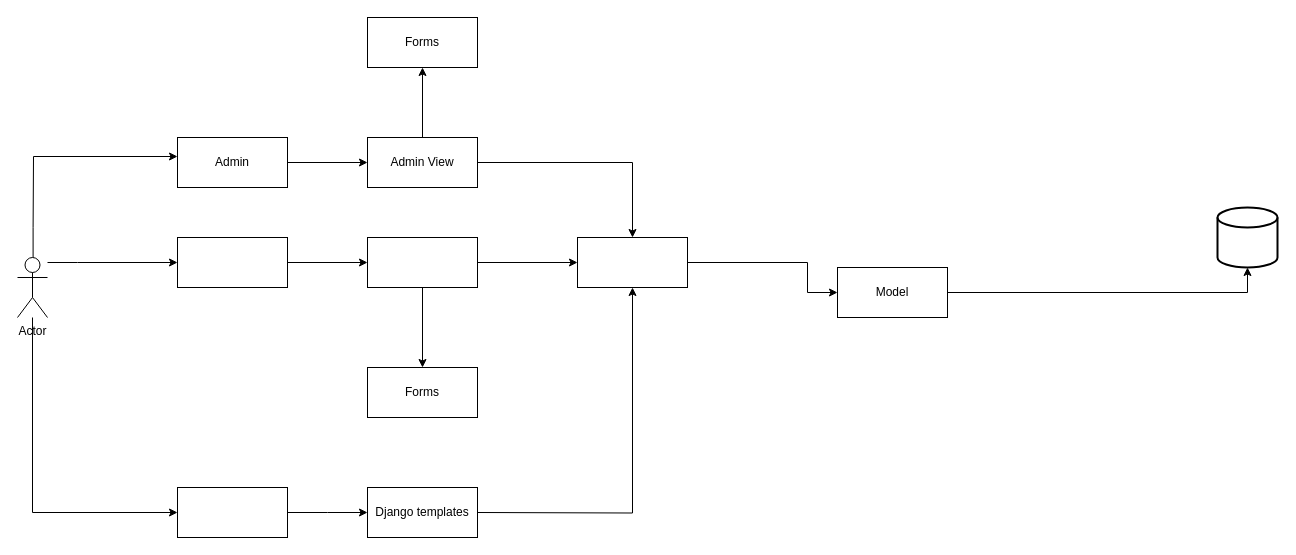
Some shapes in this 1296 by 555 pixel diagram are drawn without their labels. The centre of each missing label's shape, as x and y in pixels:
"Django View" goes at (x=422, y=262).
"Front-end" goes at (x=232, y=512).
"Services" goes at (x=632, y=262).
"Templates" goes at (x=232, y=262).
